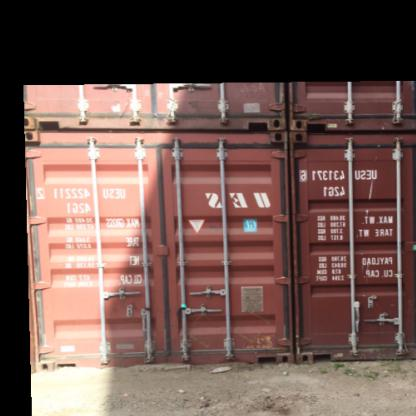Damage: (36, 311, 406, 363)
